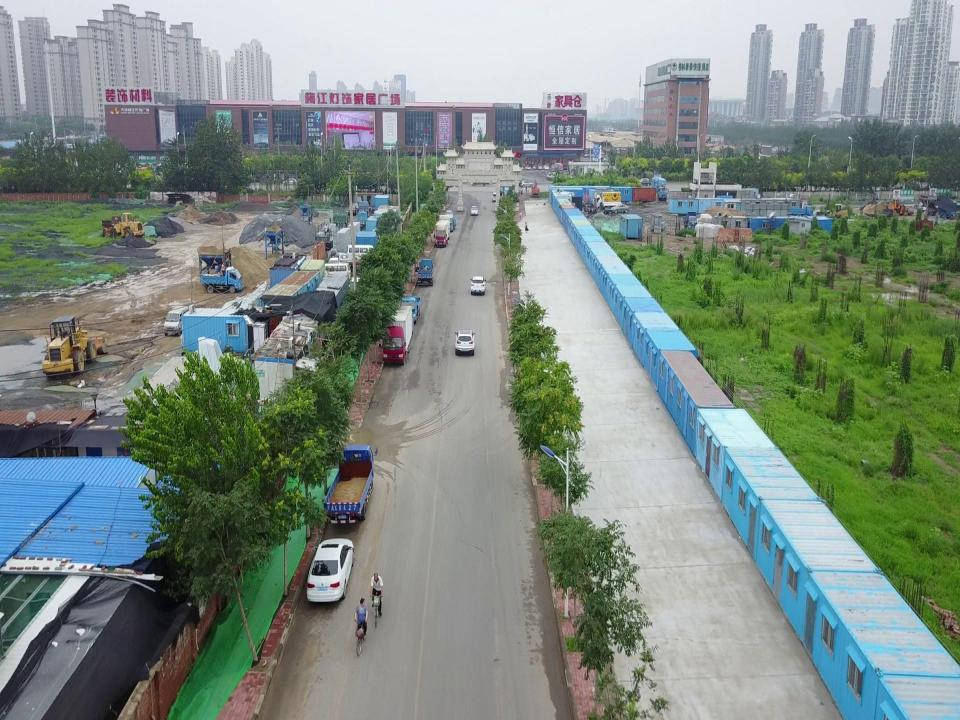car: (305, 532, 353, 610), (398, 291, 428, 324), (453, 329, 476, 357), (469, 275, 487, 296), (612, 202, 630, 214), (490, 189, 502, 204), (470, 204, 479, 217), (524, 221, 530, 234)
truck: (324, 439, 384, 526), (379, 304, 416, 364), (196, 262, 246, 294), (414, 257, 439, 287), (590, 190, 624, 209), (433, 219, 452, 251), (681, 208, 701, 230), (653, 179, 671, 202), (444, 209, 460, 231), (438, 212, 450, 237)
van: (162, 305, 195, 339)
